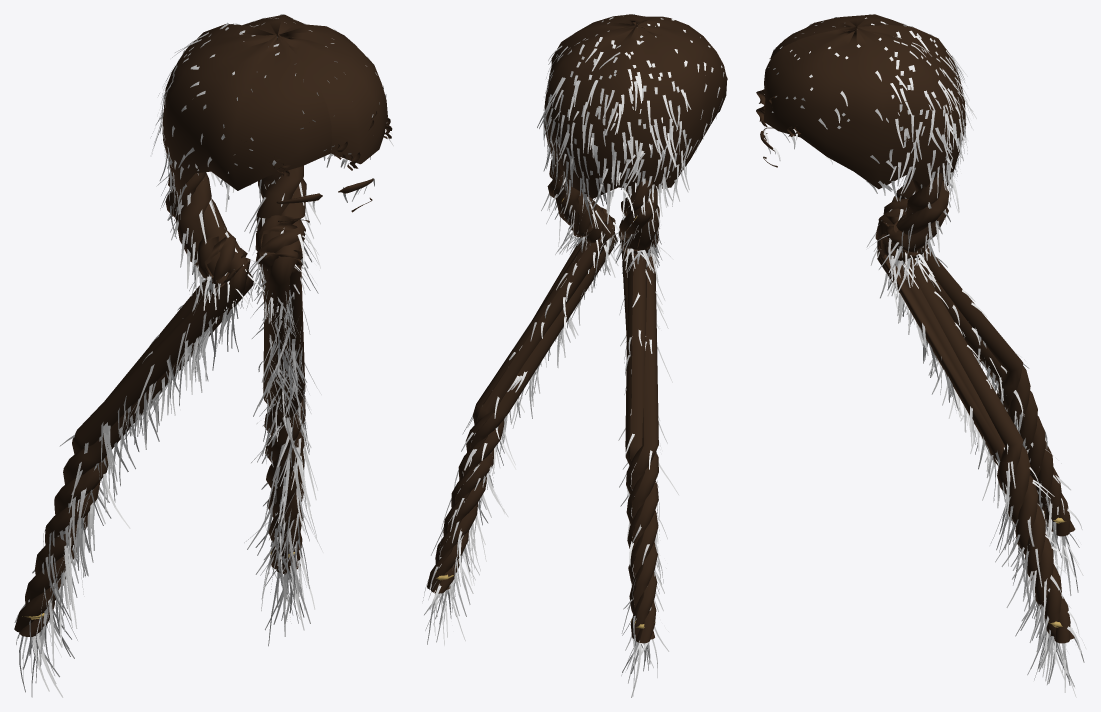
File: hair-runekeeper-braids.glb
The picture shows the model from 3 angles, left to right: view 1: azimuth 30°, elevation 25°; view 2: azimuth 150°, elevation 25°; view 3: azimuth 270°, elevation 25°; orthographic projection. The views are drawn at different scales.
Visible parts, largest first — view 1: hair-runekeeper-braids_1, hair__strands; view 2: hair-runekeeper-braids_1, hair__strands; view 3: hair-runekeeper-braids_1, hair__strands.
Part boxes in pixels (x1,y1,x2,y2): hair-runekeeper-braids_1: (14,14,392,636); hair__strands: (14,14,393,697); hair-runekeeper-braids_1: (427,14,727,643); hair__strands: (422,14,724,697); hair-runekeeper-braids_1: (756,14,1075,643); hair__strands: (763,14,1085,697).
Bounding box in the file's own units: 0.3181 × 0.752 × 0.364.
